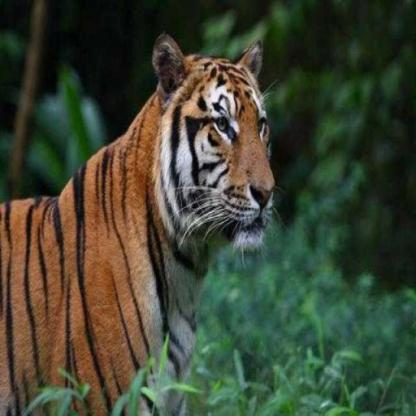Tiger: (1, 26, 313, 415)
